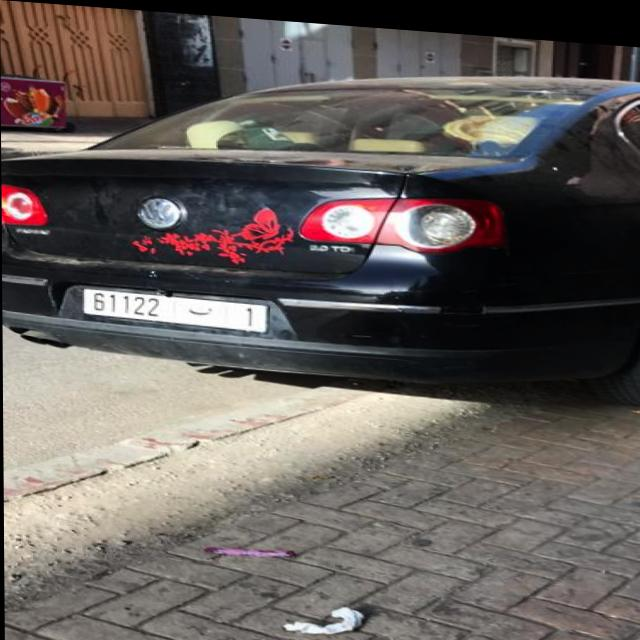License-Plate: (82, 288, 268, 328)
